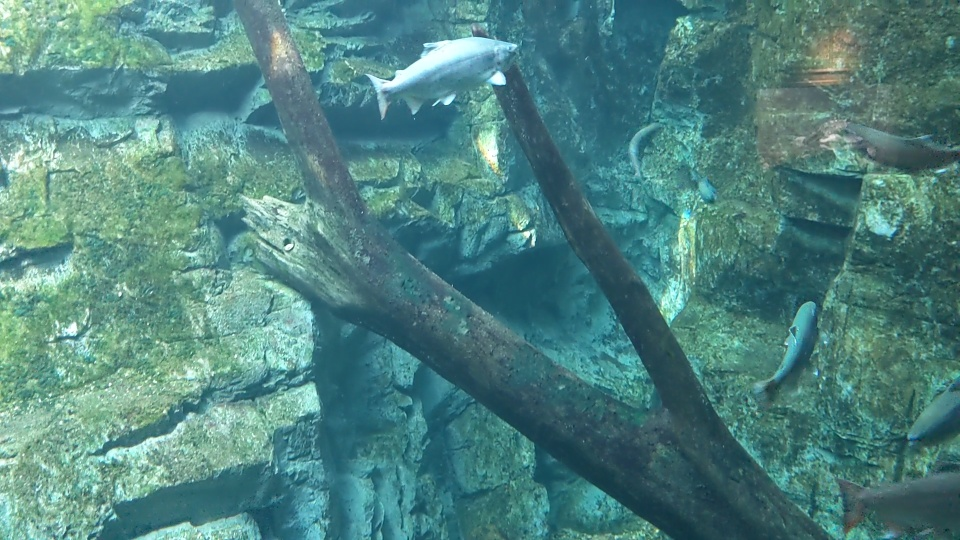Fish: (369, 36, 517, 117), (841, 111, 960, 200), (828, 468, 960, 537), (755, 293, 819, 408), (892, 375, 960, 455), (632, 120, 658, 180), (693, 168, 720, 201)
